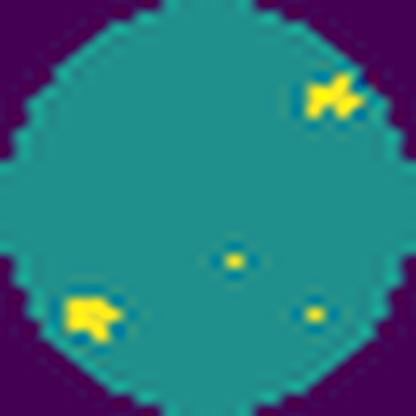Loc: (299, 67, 366, 129), (61, 293, 127, 347)
